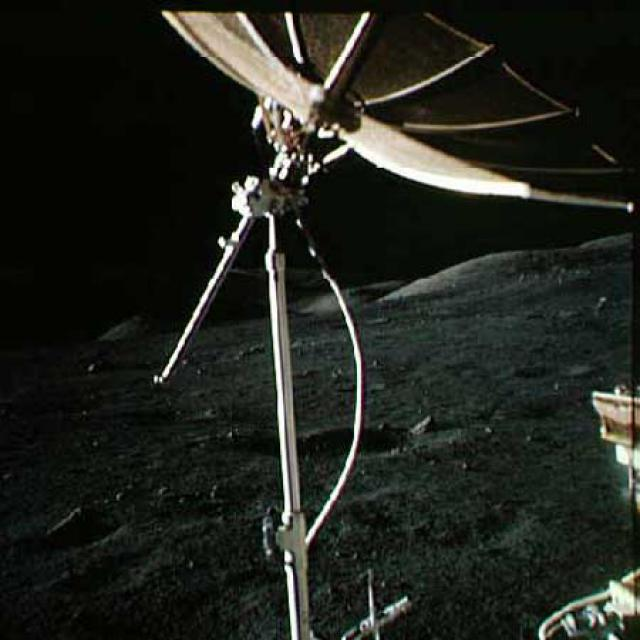artifact: (123, 6, 636, 388), (244, 384, 423, 639), (526, 388, 639, 639)
crater: (296, 421, 489, 455), (504, 359, 603, 383)
